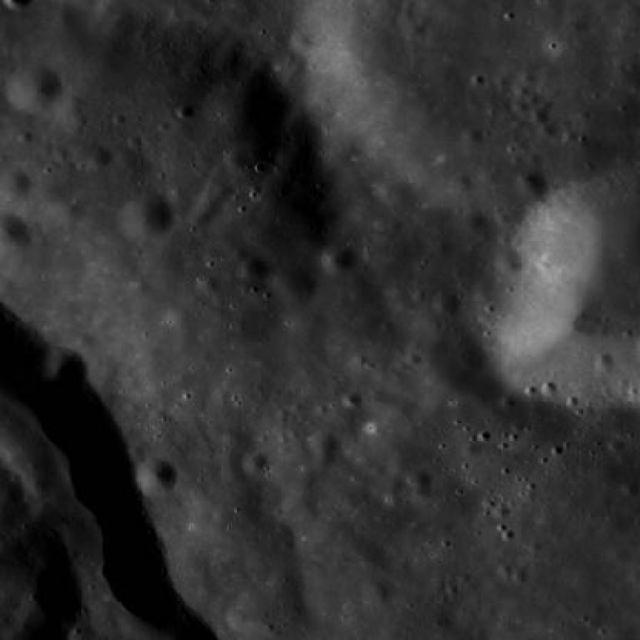crater: (0, 11, 351, 410), (162, 481, 292, 597), (238, 575, 308, 637), (5, 64, 60, 113), (118, 195, 174, 242), (272, 262, 320, 304), (134, 457, 178, 494), (47, 350, 90, 387), (42, 198, 81, 232), (319, 244, 356, 276), (224, 600, 261, 632), (200, 174, 234, 206), (79, 142, 112, 172), (516, 170, 547, 198), (361, 576, 392, 604), (1, 170, 32, 196), (407, 468, 436, 494), (310, 430, 338, 456), (240, 256, 269, 281), (432, 290, 459, 316), (190, 203, 218, 228), (496, 250, 522, 273), (243, 452, 268, 474), (224, 145, 248, 167), (404, 22, 427, 42), (463, 209, 486, 229), (233, 244, 256, 264), (313, 450, 335, 470), (596, 353, 616, 370), (198, 274, 217, 291), (531, 108, 551, 124), (464, 126, 484, 142), (453, 174, 472, 189), (1, 0, 2, 1)
